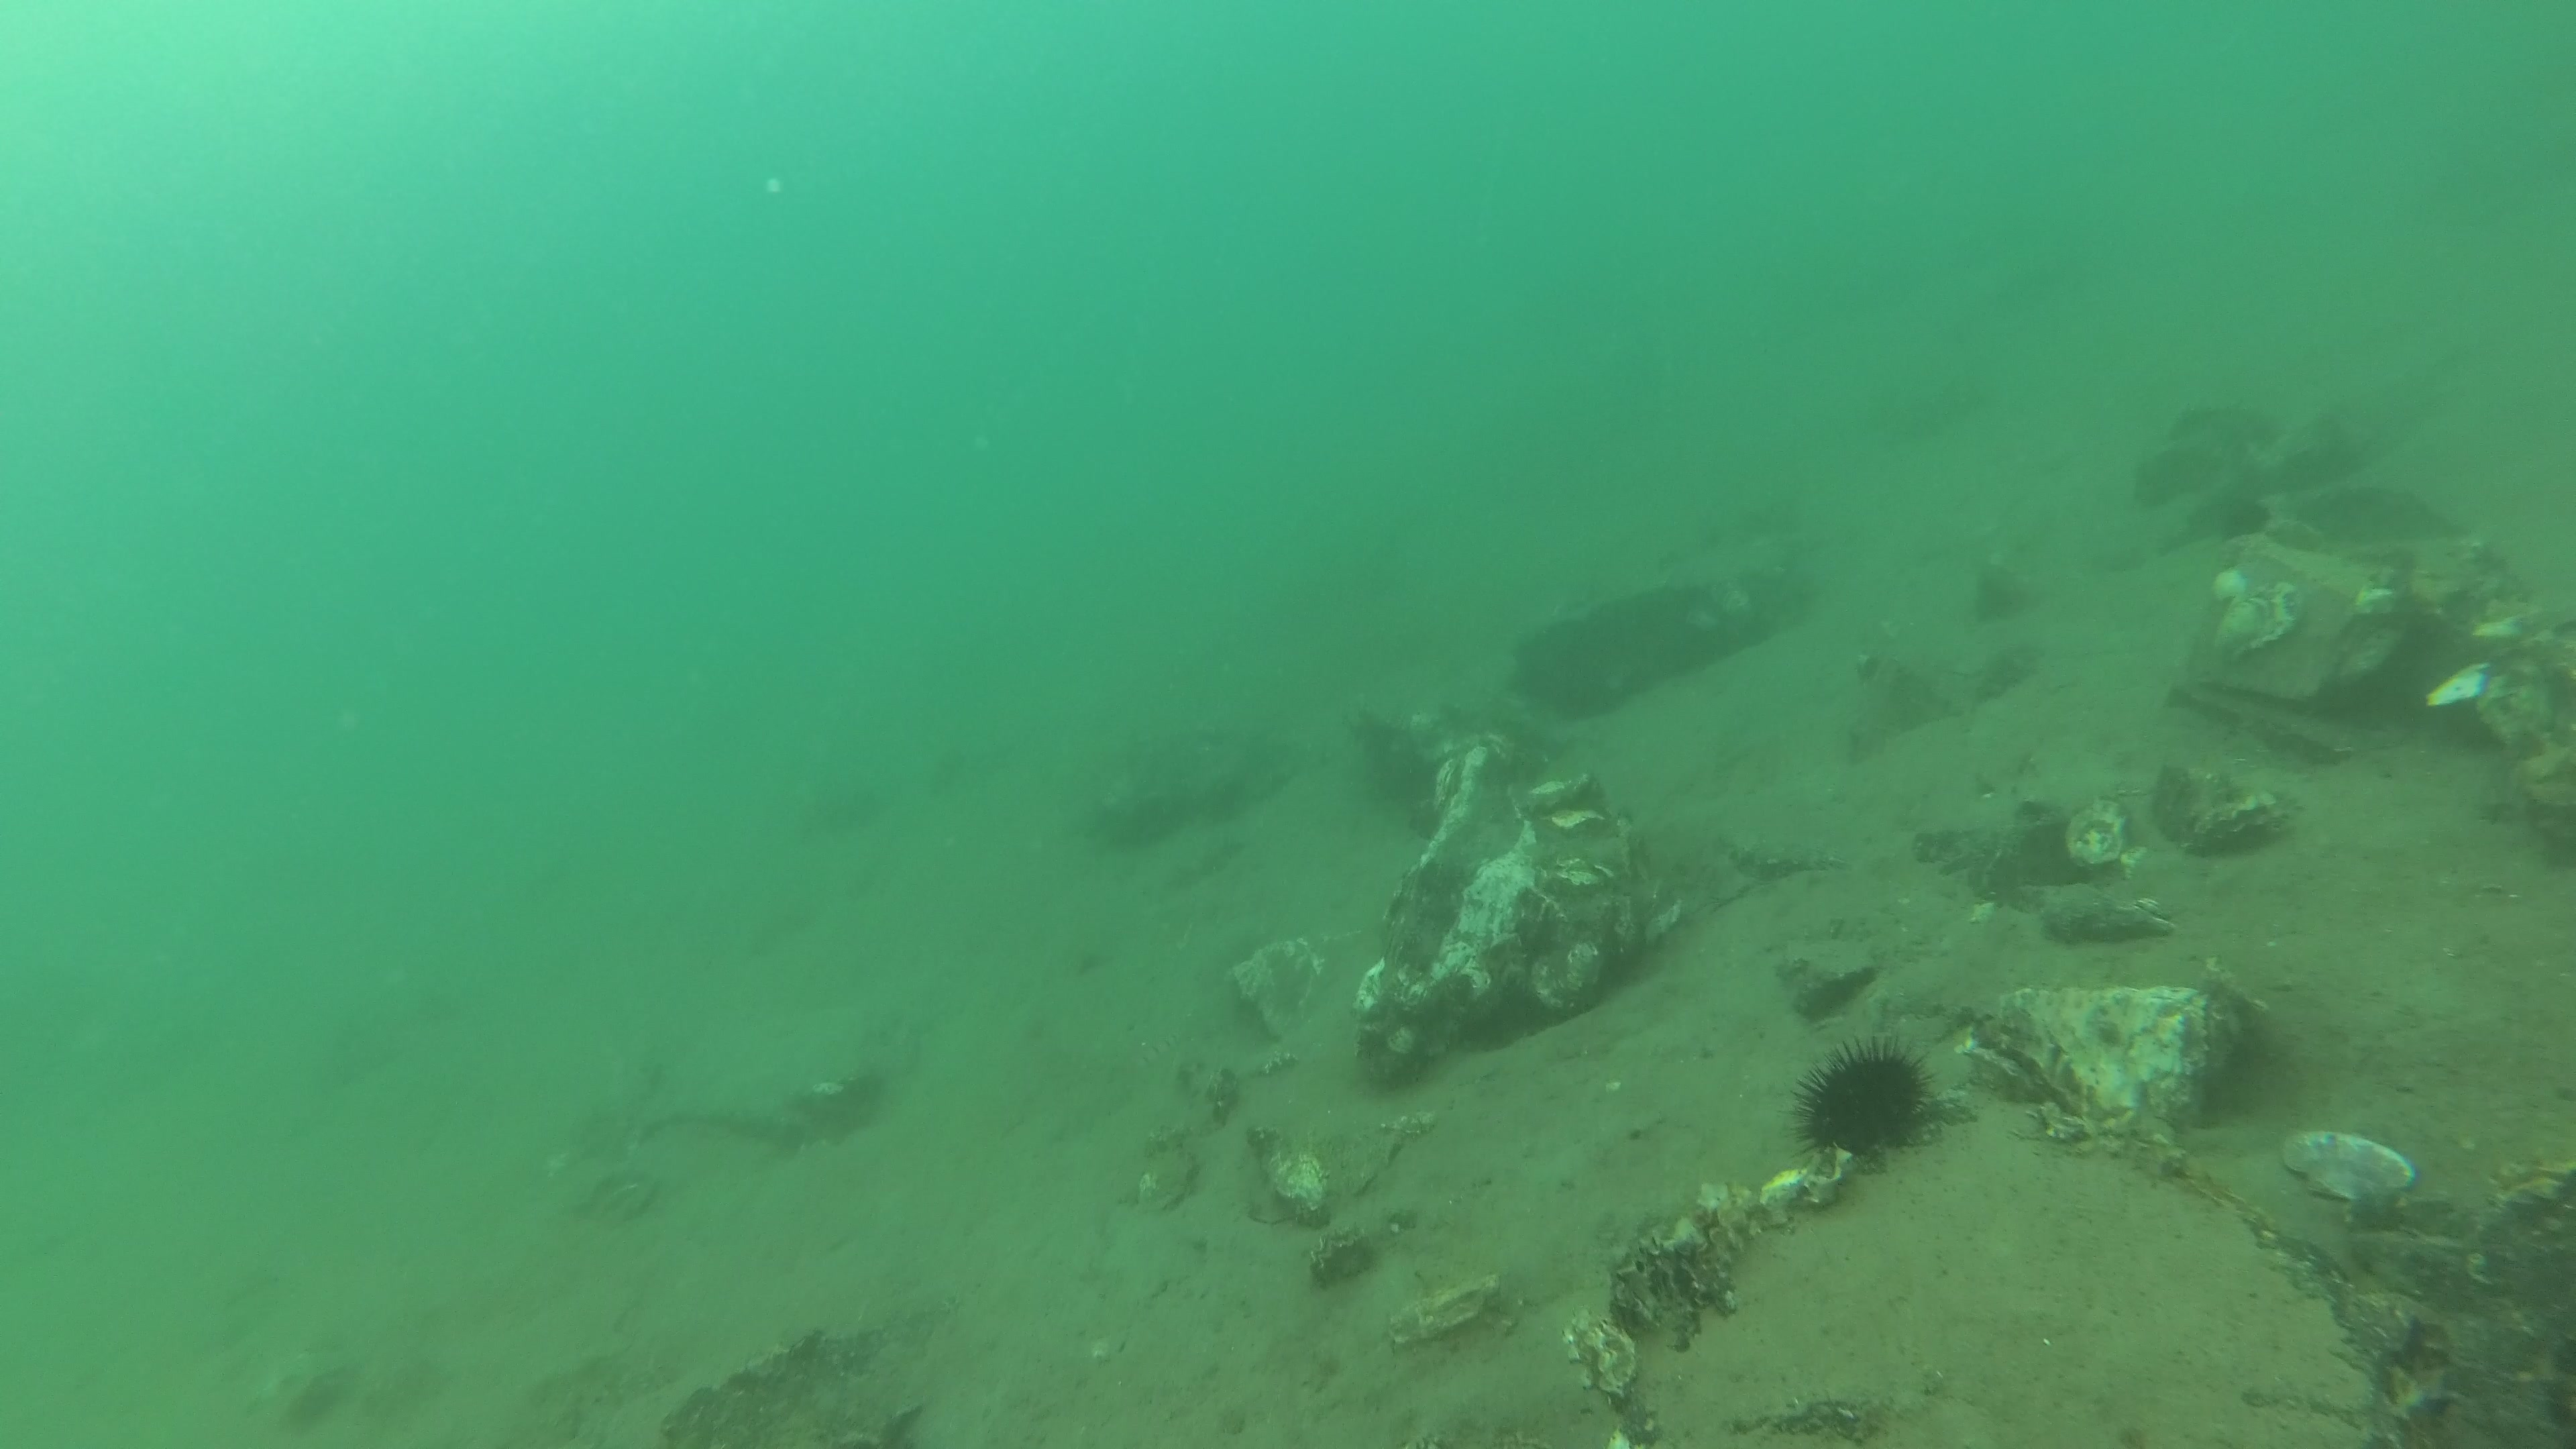echinus: (1785, 1030, 1939, 1168), (1509, 619, 1638, 718), (2012, 819, 2097, 888), (1971, 573, 2024, 623), (2219, 499, 2272, 541)
scallop: (2275, 1125, 2424, 1215)
